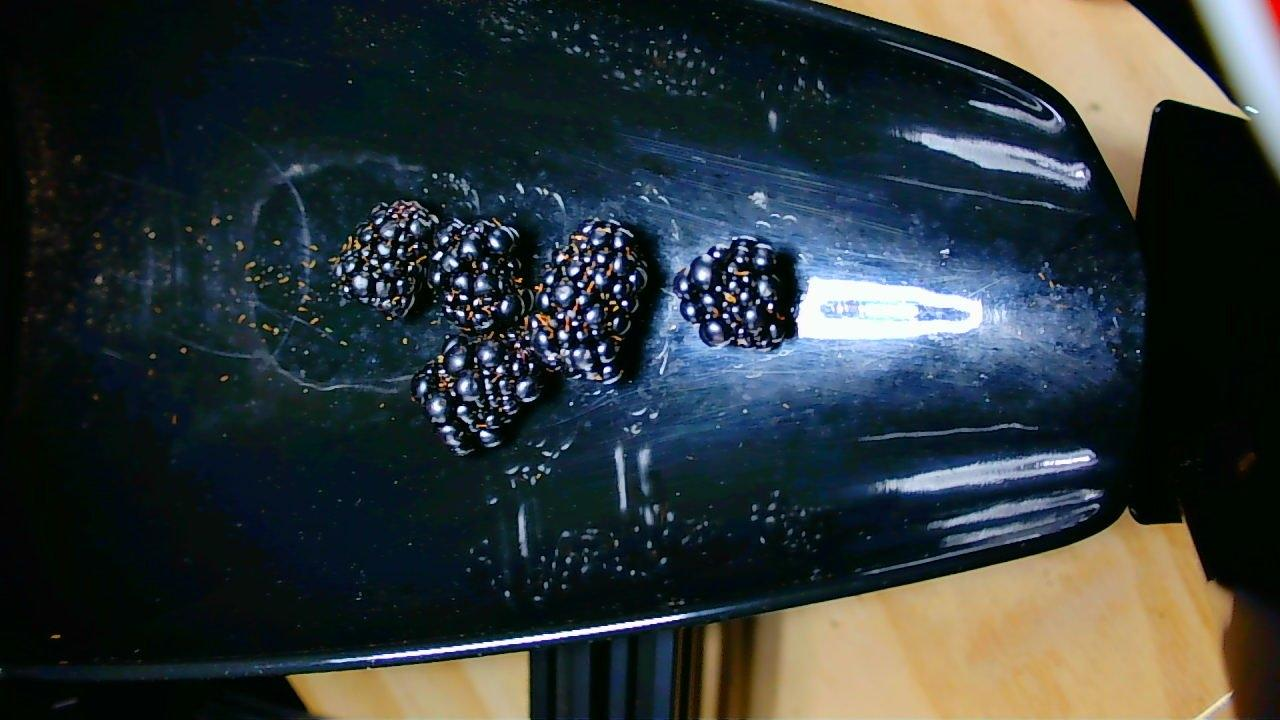berry: (536, 218, 650, 389), (422, 328, 553, 454), (680, 236, 796, 346), (331, 204, 430, 312), (427, 221, 525, 330)
